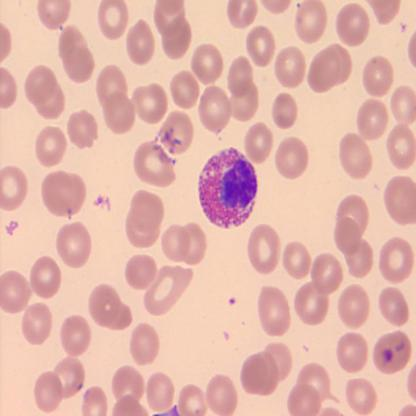Eosinophil: (199, 149, 257, 229)
